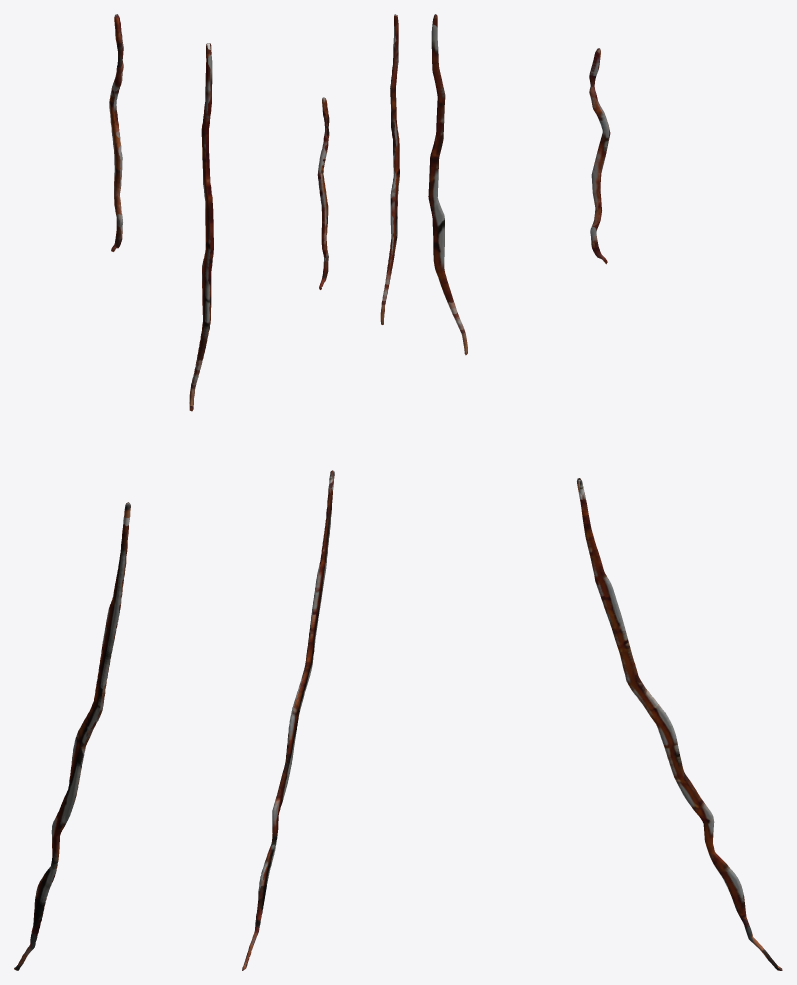
3 renders of one model, left to right at view 1: azimuth 30°, elevation 25°; view 2: azimuth 150°, elevation 25°; view 3: azimuth 270°, elevation 25°, orthographic. The views are drawn at different scales.
Visible parts, largest first — view 1: tripo_node_af037b17-e1a8-49ff-ae33-64002fbf28e6; view 2: tripo_node_af037b17-e1a8-49ff-ae33-64002fbf28e6; view 3: tripo_node_af037b17-e1a8-49ff-ae33-64002fbf28e6.
Part boxes in pixels (x1=…): tripo_node_af037b17-e1a8-49ff-ae33-64002fbf28e6: x1=14, y1=14, x2=213, y2=970; tripo_node_af037b17-e1a8-49ff-ae33-64002fbf28e6: x1=242, y1=14, x2=399, y2=970; tripo_node_af037b17-e1a8-49ff-ae33-64002fbf28e6: x1=428, y1=14, x2=782, y2=970.
Size of the model in its own units: 0.00601 by 1 by 0.3354.
1 material, 1 textured.
